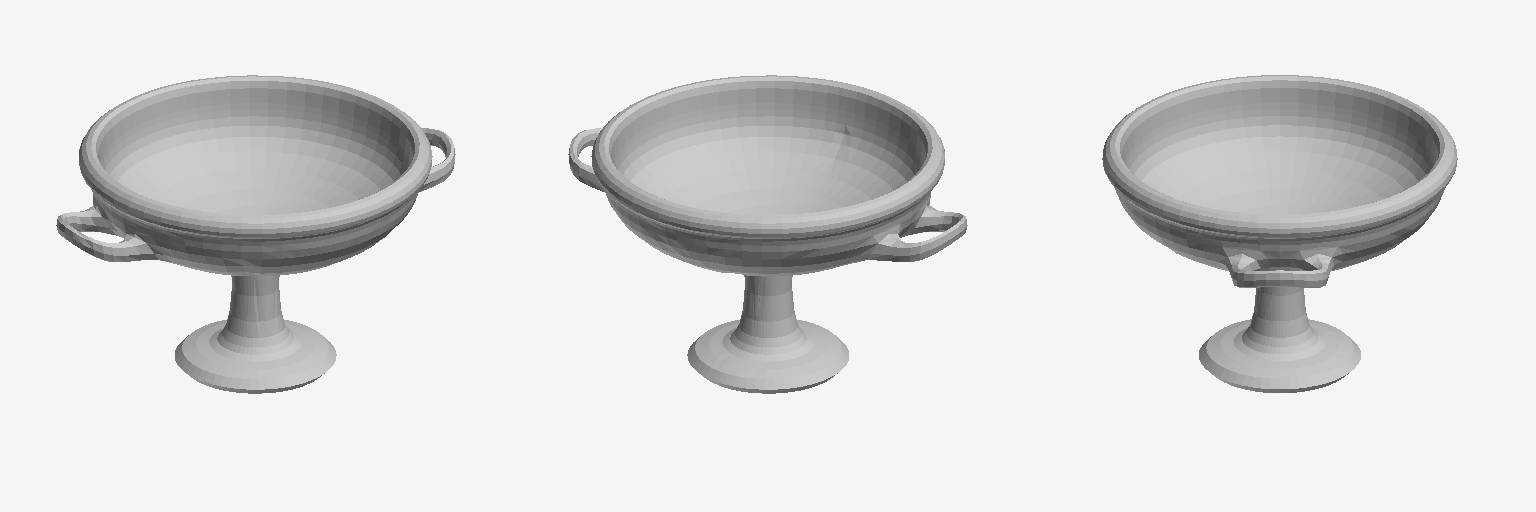
File: modeloplato.obj
3 renders of one model, left to right at view 1: azimuth 30°, elevation 25°; view 2: azimuth 150°, elevation 25°; view 3: azimuth 270°, elevation 25°, orthographic.
Visible parts, largest first — view 1: Kylix_Material_Kylix_0; view 2: Kylix_Material_Kylix_0; view 3: Kylix_Material_Kylix_0.
Part boxes in pixels (x1,y1,x2,y2): Kylix_Material_Kylix_0: (56, 75, 455, 393); Kylix_Material_Kylix_0: (568, 75, 967, 393); Kylix_Material_Kylix_0: (1102, 75, 1457, 392).
Bounding box in the file's own units: 58.23 × 32.01 × 46.69.